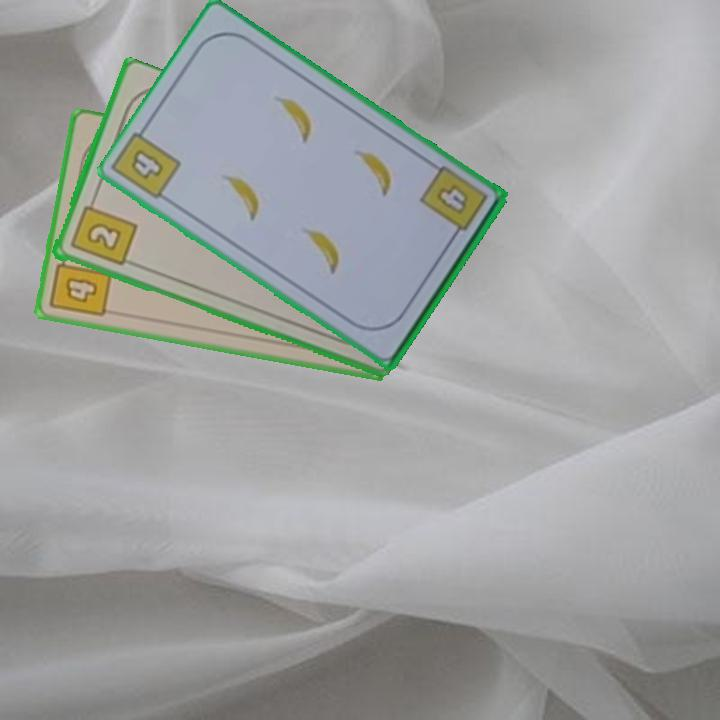2b: (66, 194, 139, 269)
4b: (416, 162, 491, 244), (46, 249, 114, 321), (126, 145, 166, 183)
